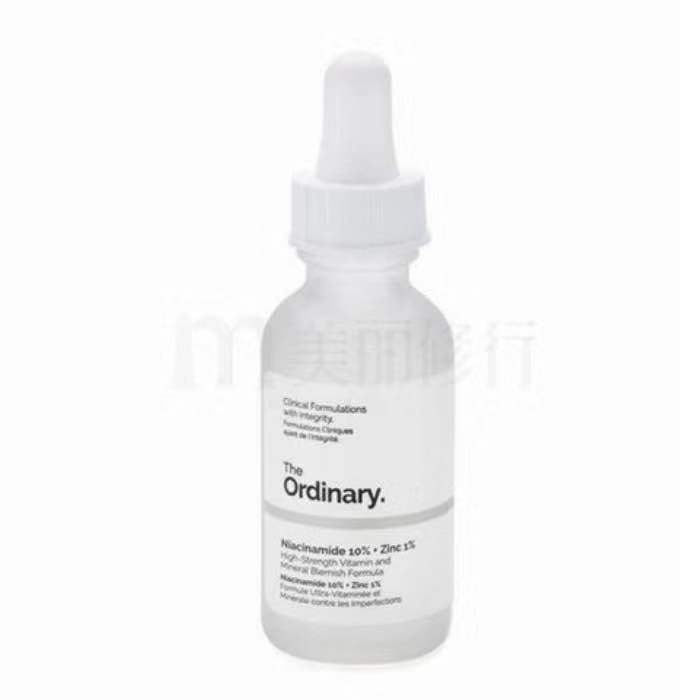cosmetic: (260, 57, 456, 661)
